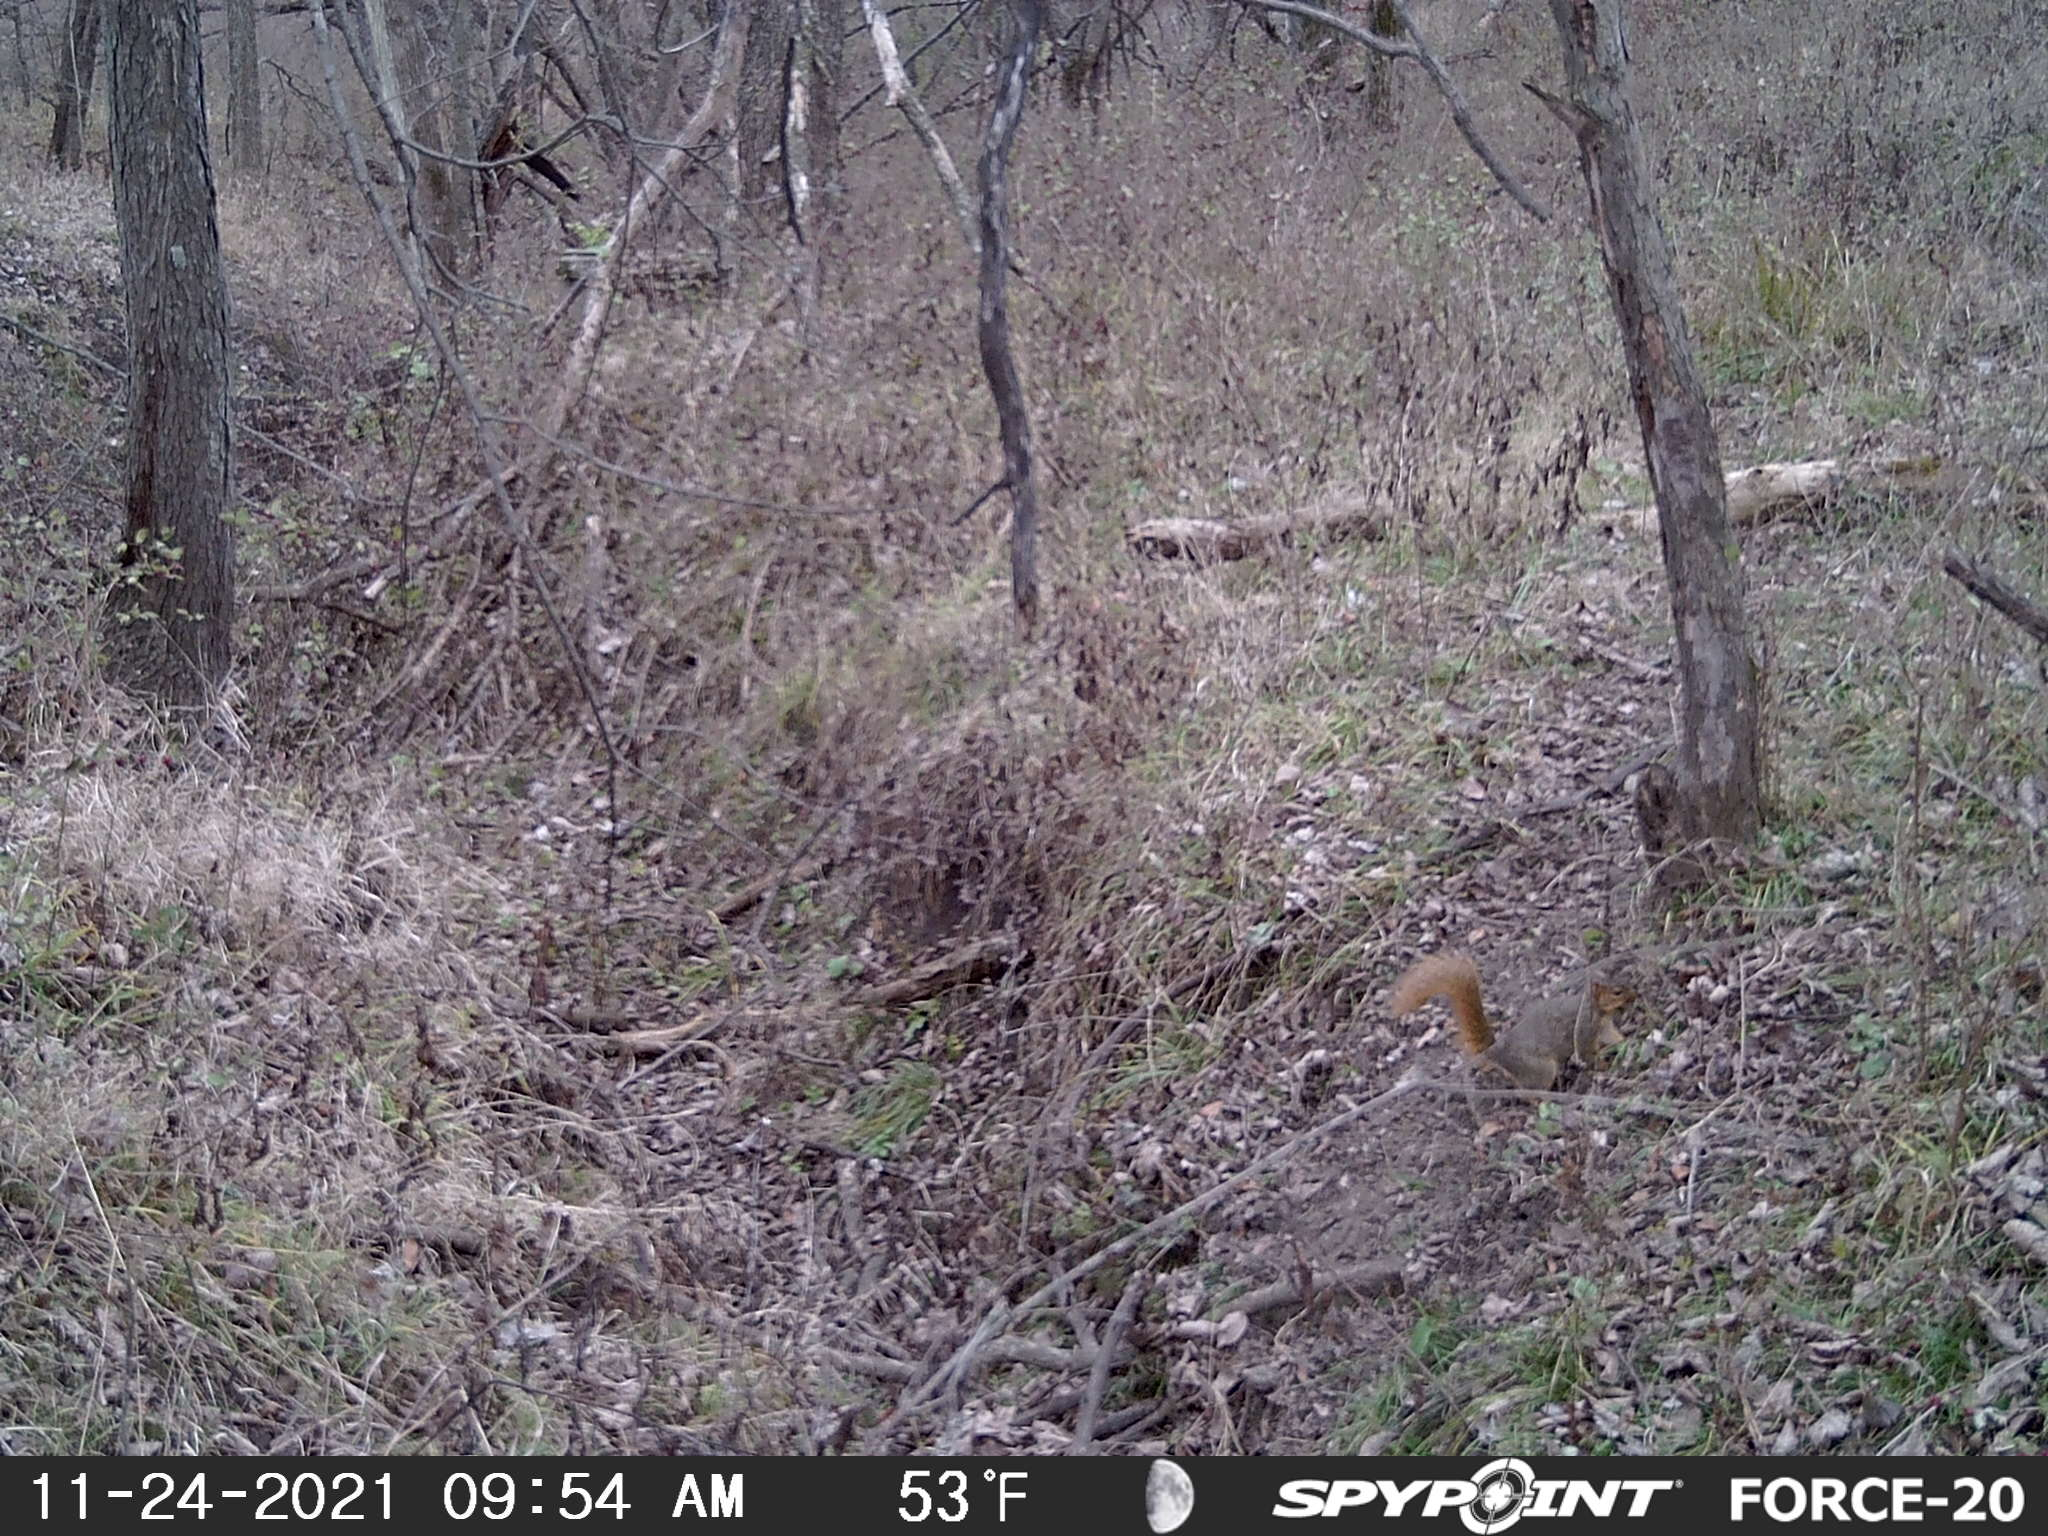Squirrel: (1382, 949, 1609, 1099)
